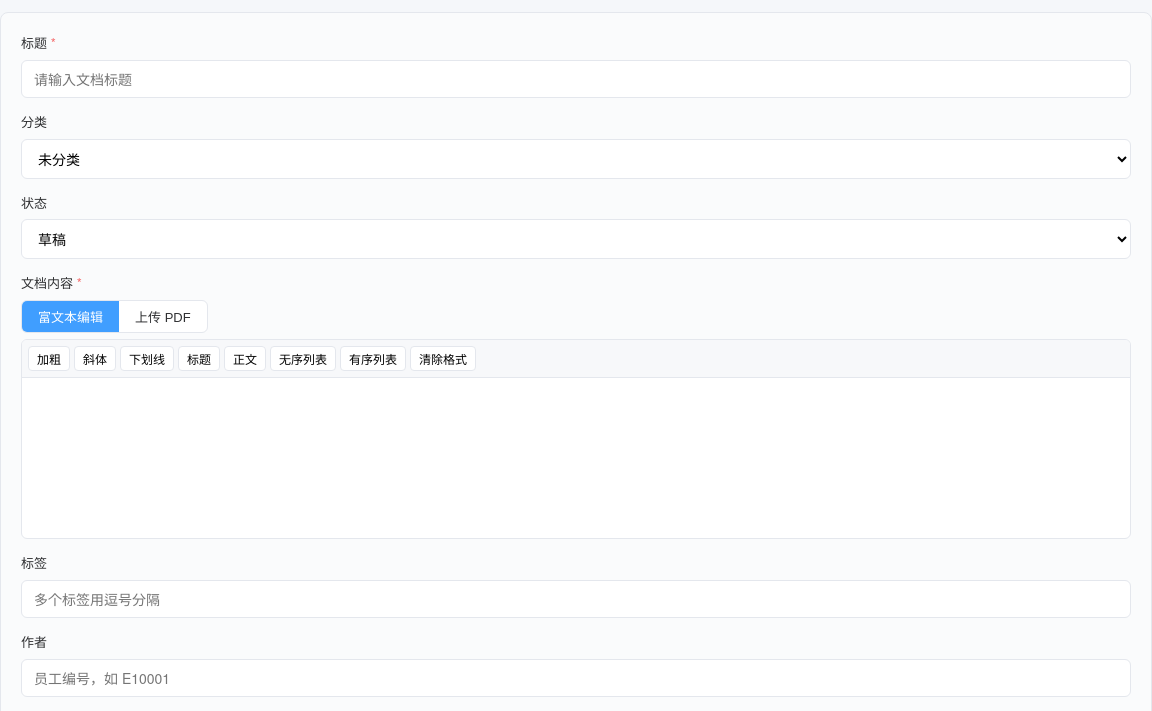
Test: DocumentForm 文档表单 › 上传 PDF 模式下未选择文件时阻止提交
Click the button "上传 PDF". click: (163, 317)
box: x1=119 y1=301 x2=207 y2=332
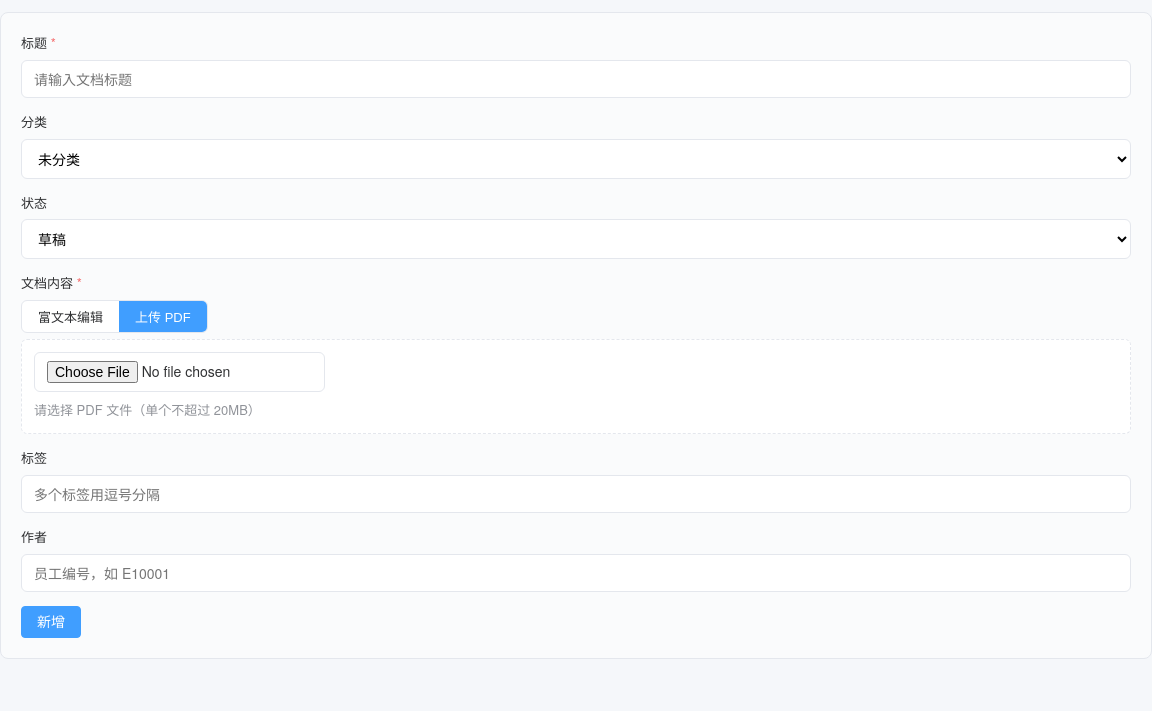
Type "未上传" into the field with placeholder "请输入文档标题". click: (576, 79)
box: x1=21 y1=60 x2=1131 y2=98
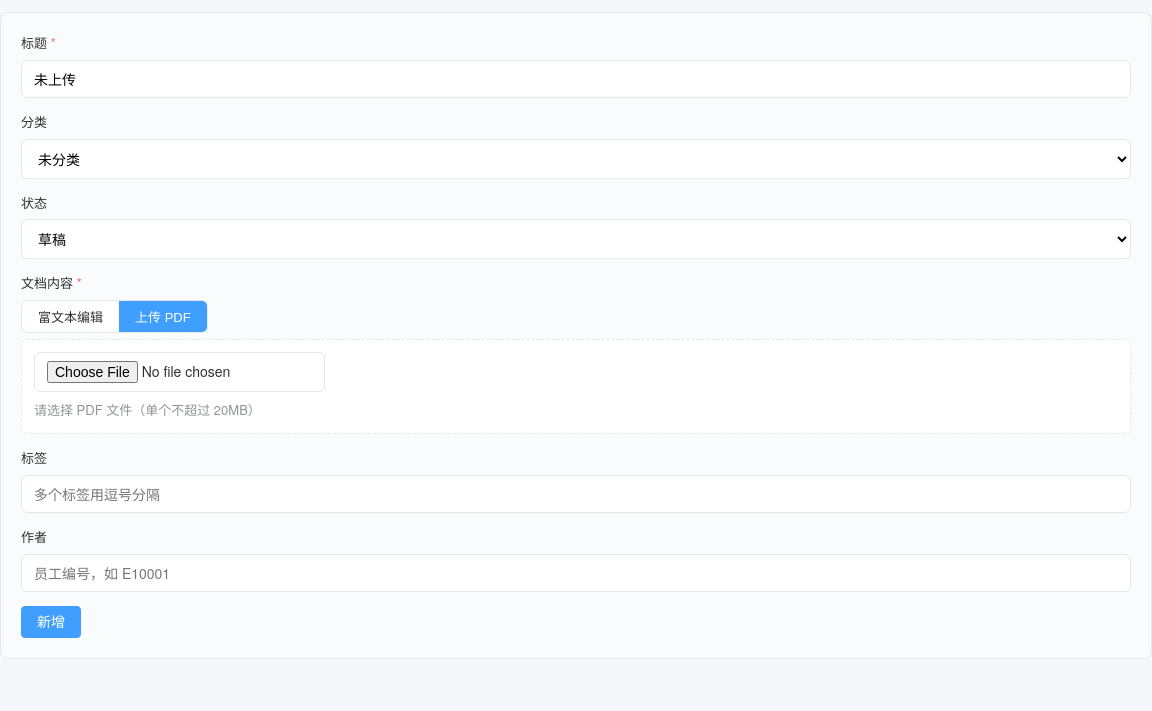
Submit the form
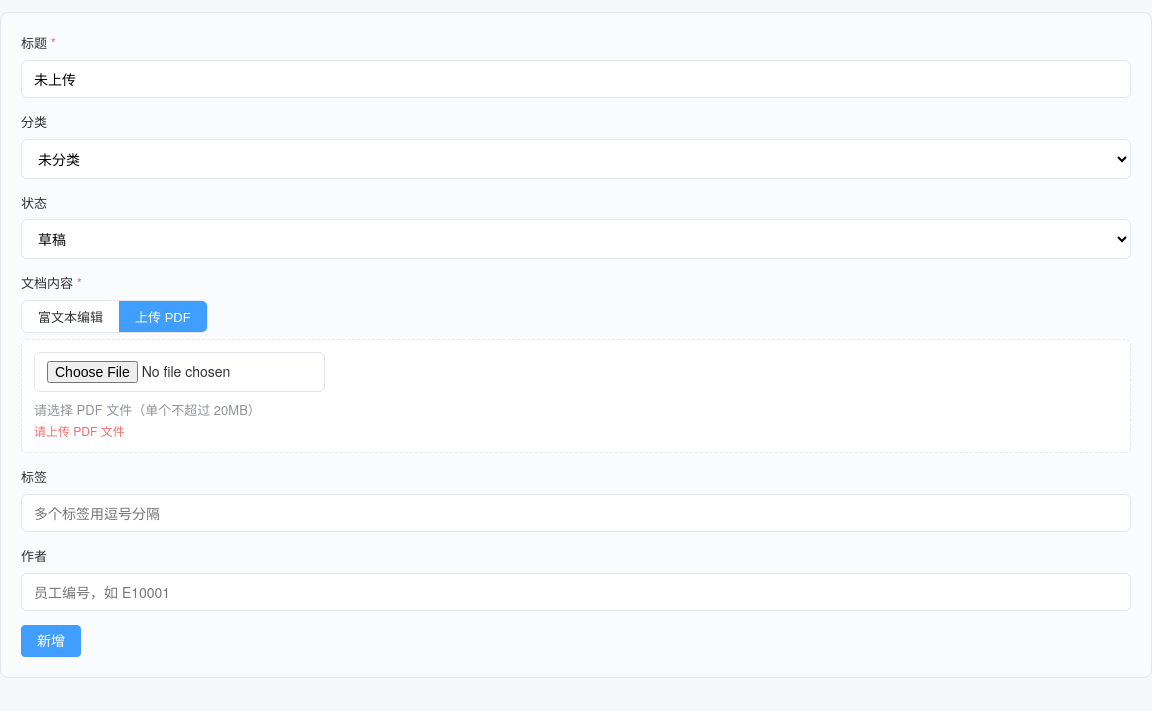
Now the text "请上传 PDF 文件" is shown, box x1=34 y1=422 x2=125 y2=439
